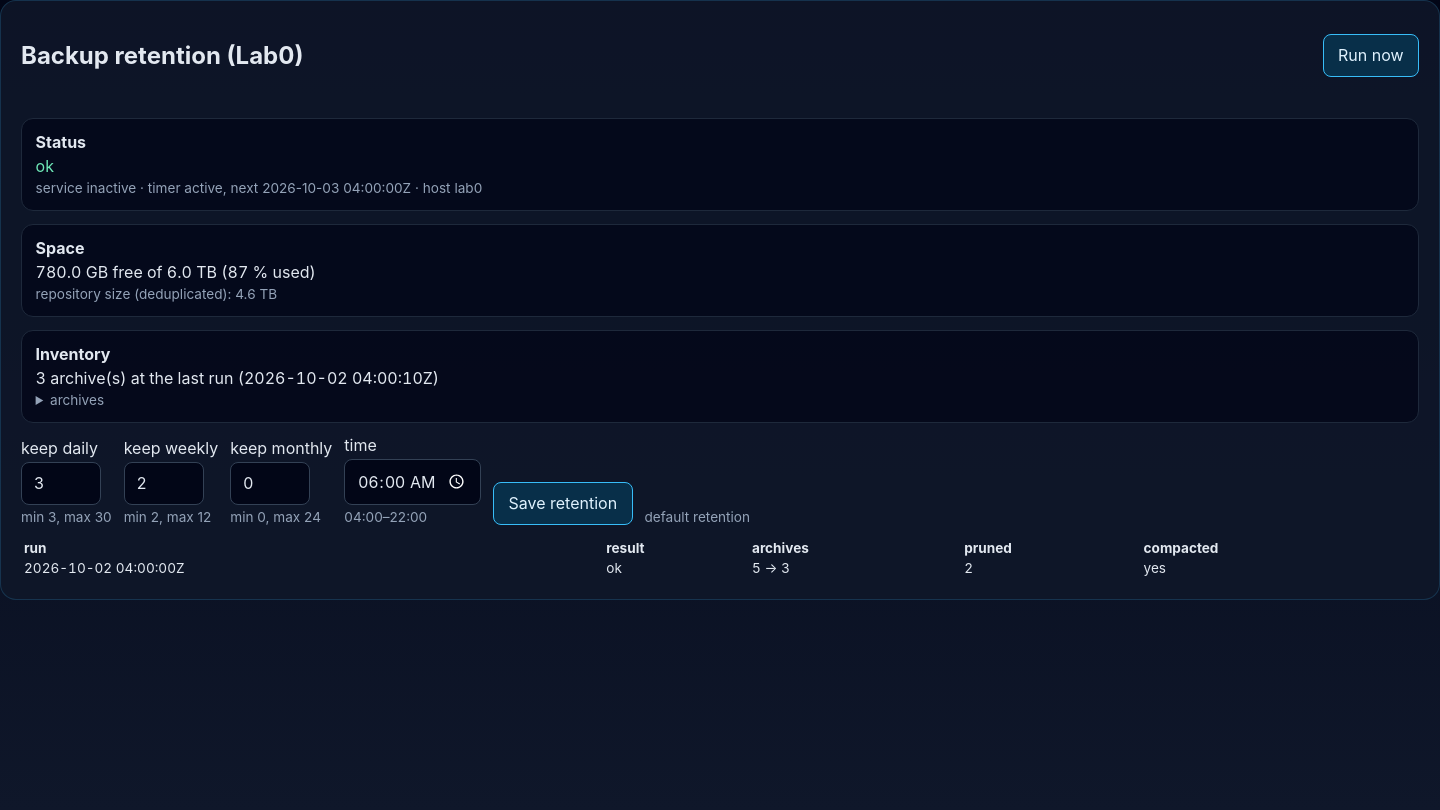
RetentionPanel › shows the server's refusal
Replace the text in the number field showing "3" with "4" at (61, 483), box [21,462,101,505]
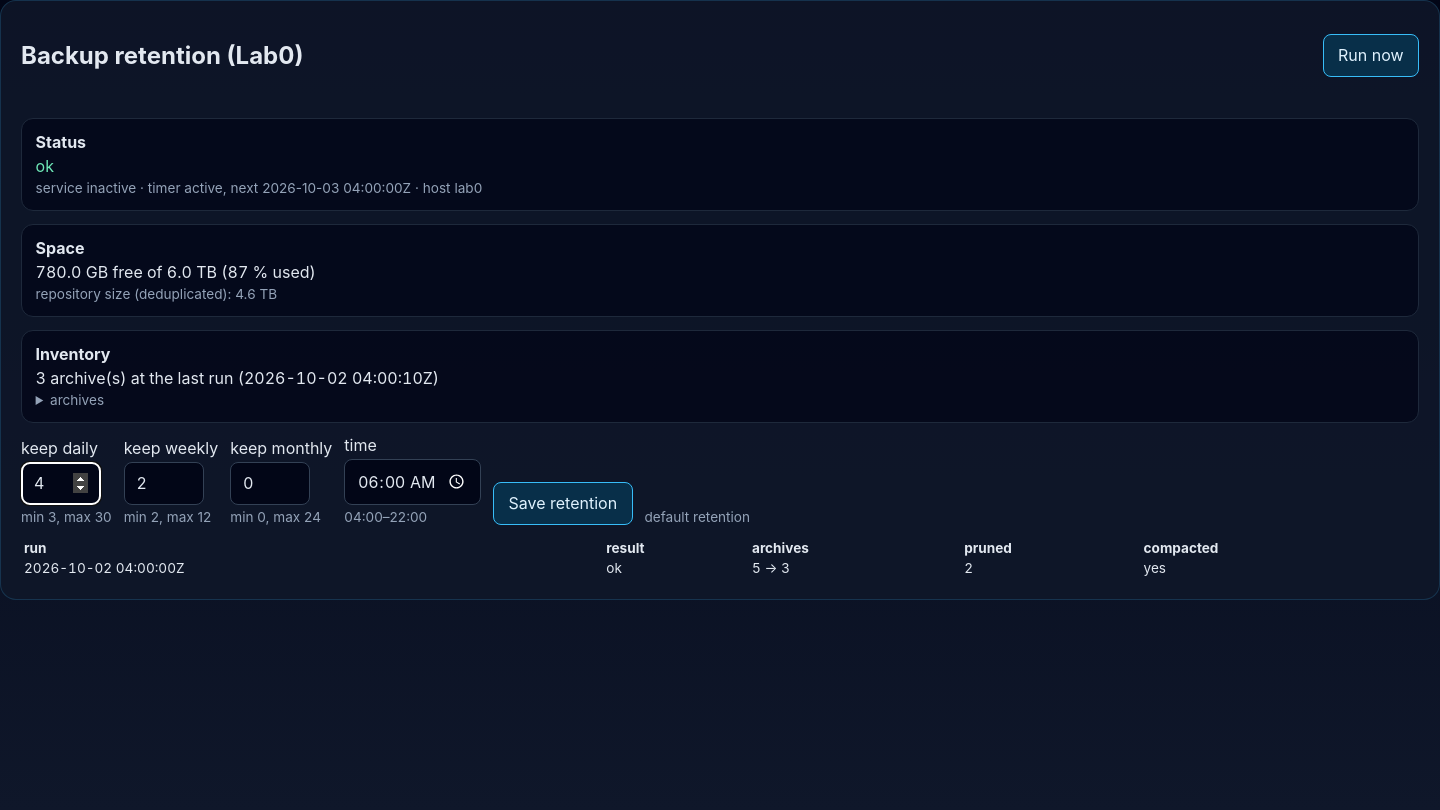
Click the button "Save retention" at (563, 503), box [493,482,632,525]
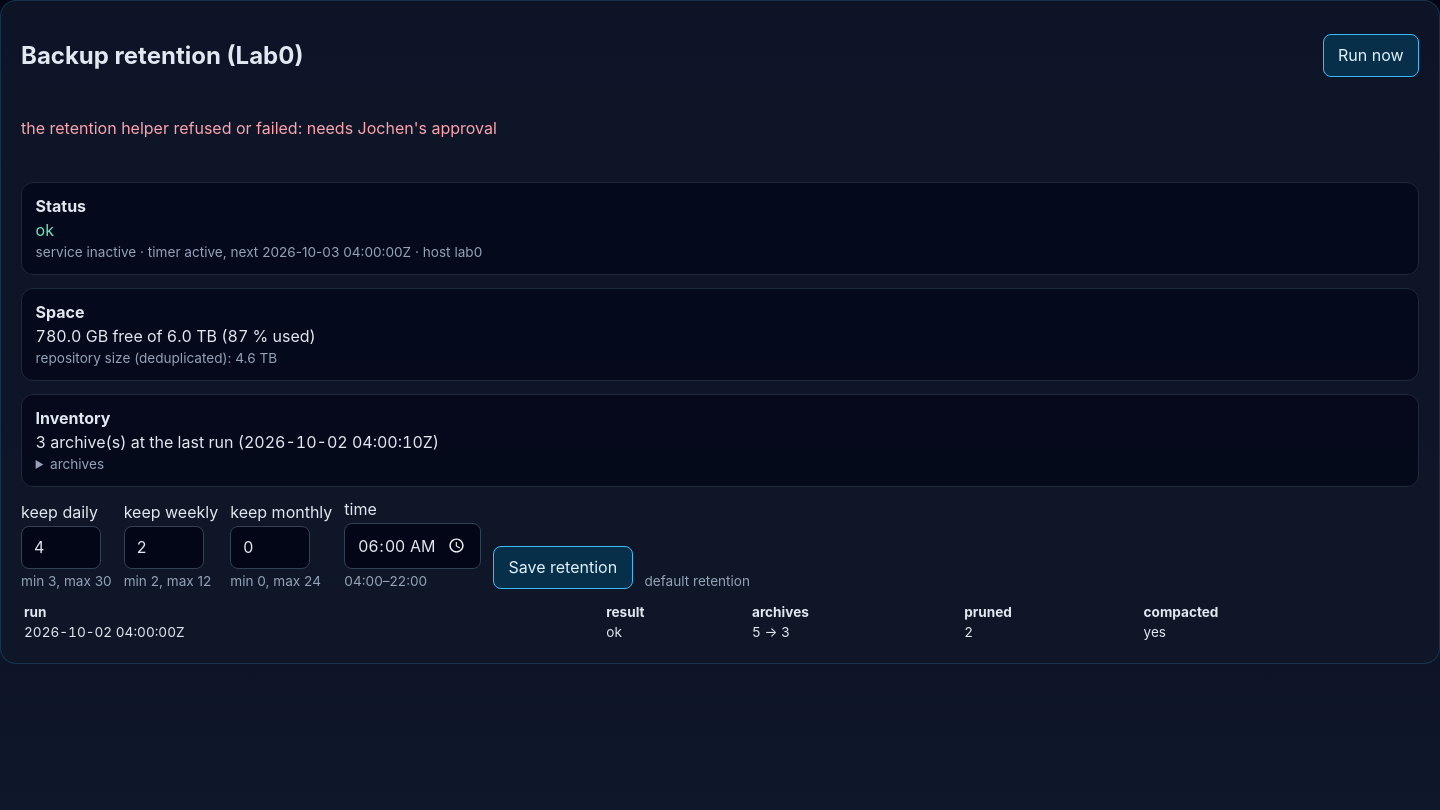
Expected: the text with test id "retention-error" shows "the retention helper refused", [21,118,497,138]
